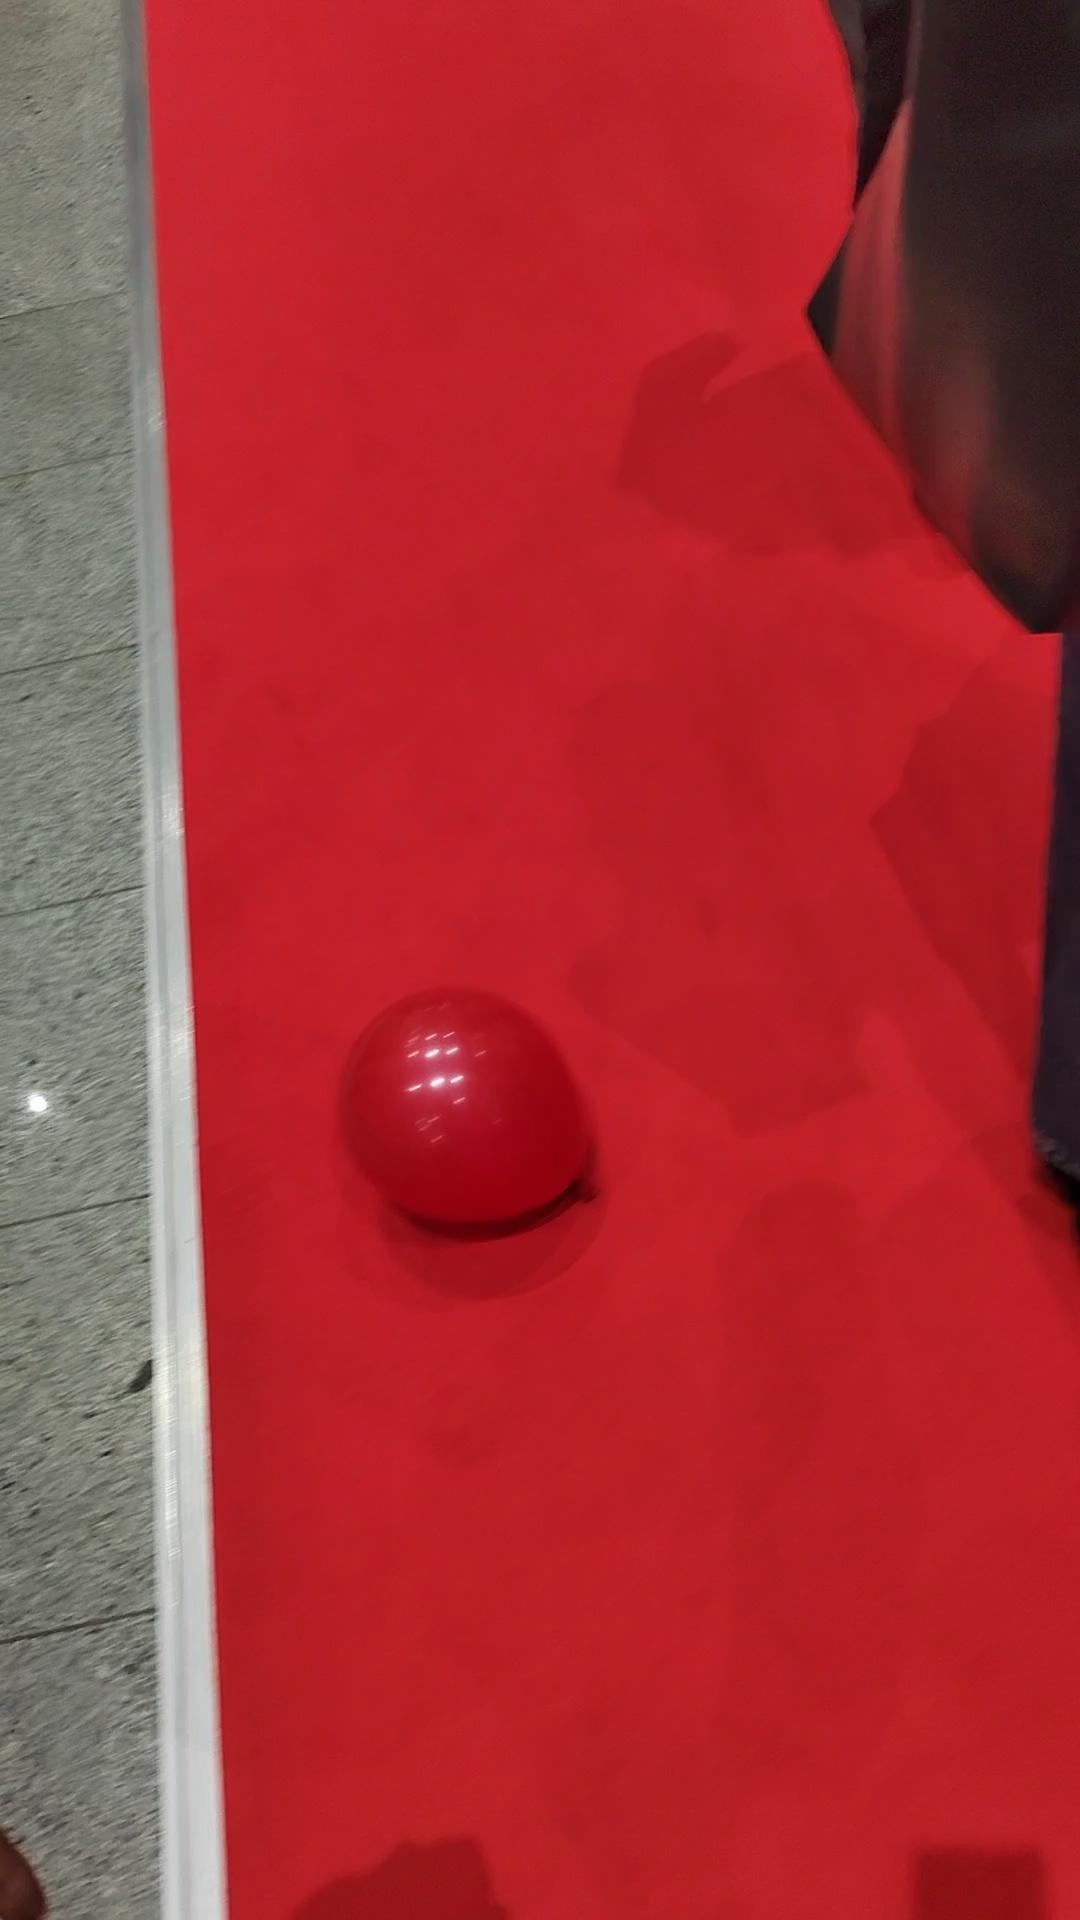red: (341, 989, 585, 1229)
